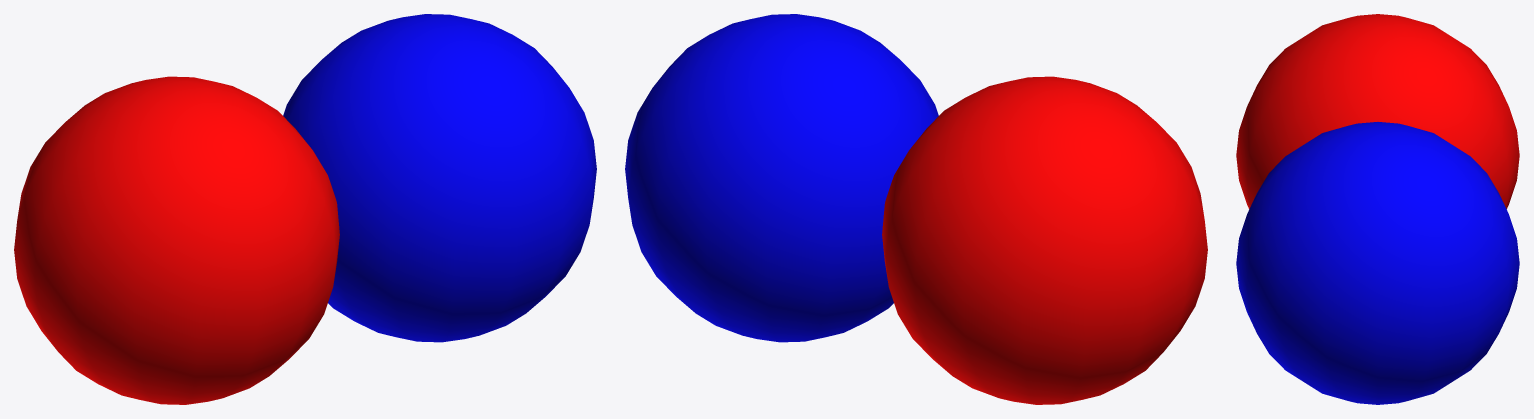
The model's file is lactose.glb.
3 renders of one model, left to right at view 1: azimuth 30°, elevation 25°; view 2: azimuth 150°, elevation 25°; view 3: azimuth 270°, elevation 25°, orthographic. The views are drawn at different scales.
Visible parts, largest first — view 1: galactose, allolactose; view 2: galactose, allolactose; view 3: allolactose, galactose.
Boxes of the visible parts, <box> form: galactose: <box>14,76,339,404</box>; allolactose: <box>283,14,596,342</box>; galactose: <box>882,76,1207,404</box>; allolactose: <box>625,14,938,342</box>; allolactose: <box>1236,122,1519,404</box>; galactose: <box>1236,14,1519,208</box>.
Bounding box in the file's own units: 0.38 × 0.2 × 0.2.
